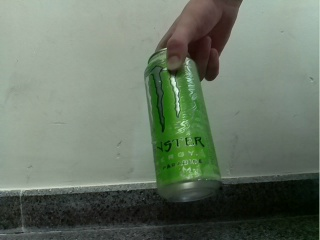botella plastico: (144, 47, 222, 202)
